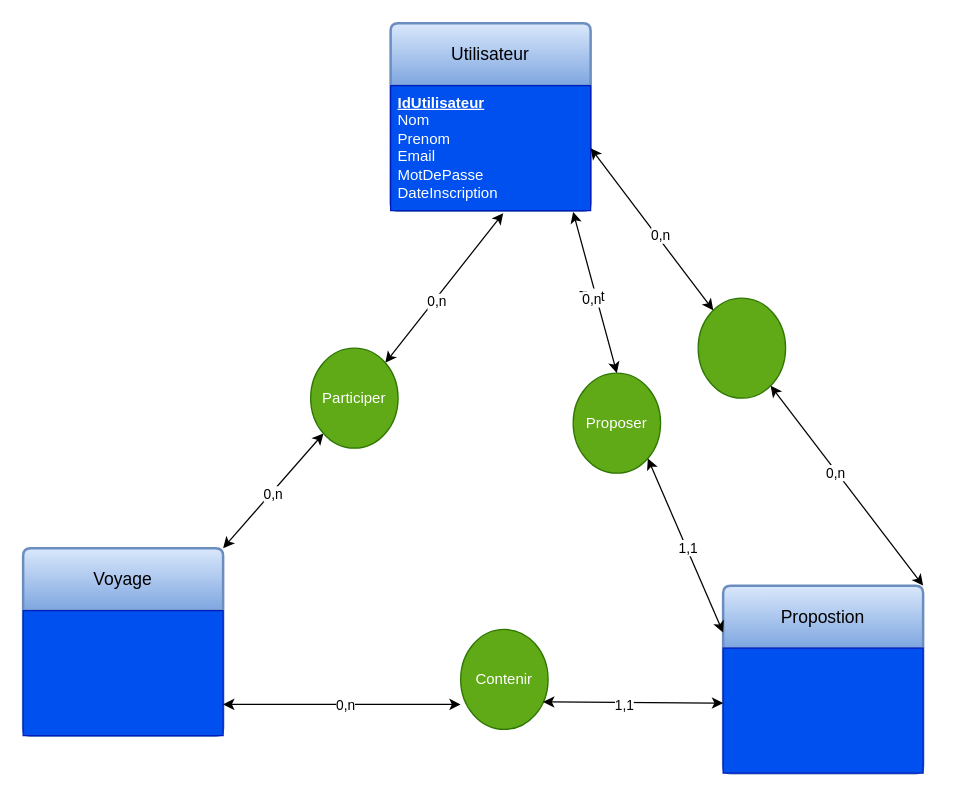
Image size: 956x805. Some labels were removed from this diagram. The shapes that lost their labels are listed below. From the top down, each one's box as (x1, y1, x2, y2) in pixels, then its label:
(697, 297, 786, 398): Voter
(22, 609, 223, 736): IdVoyage Destination DateDebut DateFin DateLimiteVote StatutVote
(722, 647, 923, 773): IdProposition TypePropositon Titre Description PrixEstime EstRetenue
